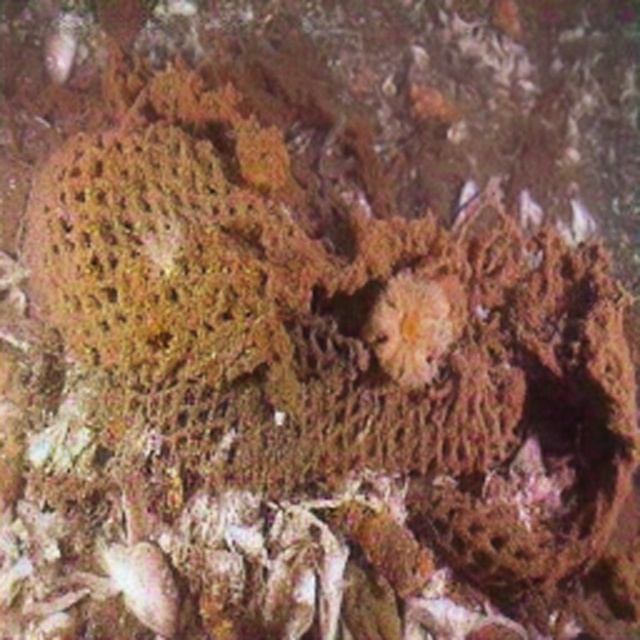mine: (25, 71, 543, 611)
